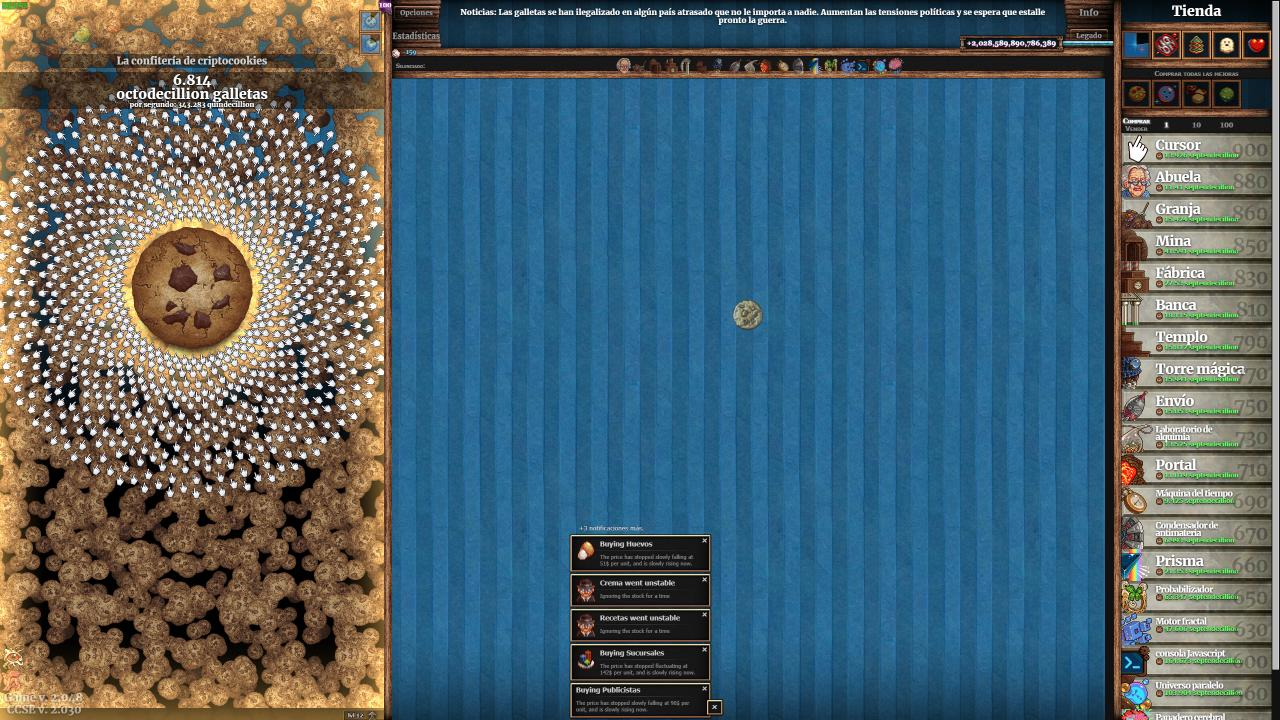GoldenCookie: (732, 298, 765, 332)
